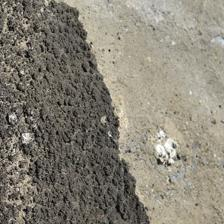Crack: (7, 0, 103, 101), (34, 21, 84, 131)
